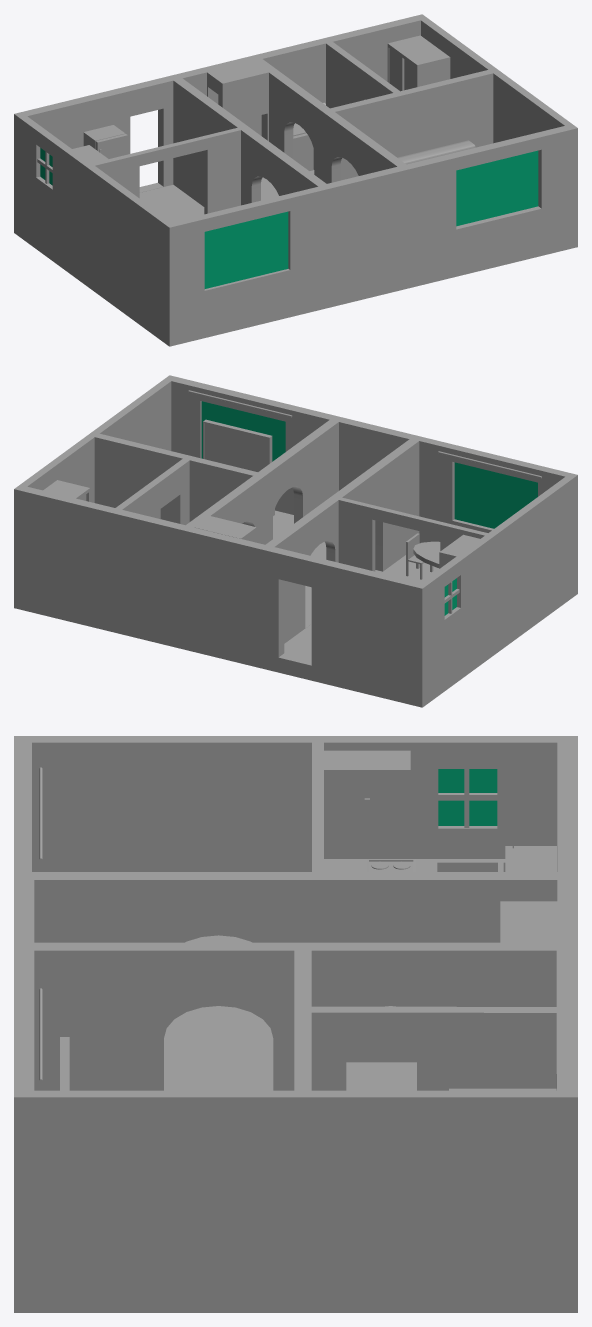
File: House_Layout_06.fbx
3 renders of one model, top to bottom at view 1: azimuth 30°, elevation 25°; view 2: azimuth 150°, elevation 25°; view 3: azimuth 270°, elevation 25°, orthographic. The views are drawn at different scales.
Parts seen in each view (by area): view 1: loftedSurface6, pCube25, pCube24, pCube22, pCube6, pCube14, pCylinder13, pCube26; view 2: loftedSurface6, pCube25, pCube29, pCube24, pCube35, pCube22, pCube6, pCube12; view 3: loftedSurface6, pCube12, pCylinder23, pCube22, pCube14.
Boxes of the visible parts, x1,y1,x2,y2 form: loftedSurface6: (14,14,577,346); pCube25: (204,211,288,288); pCube24: (456,150,538,226); pCube22: (207,60,269,141); pCube6: (387,35,450,91); pCube14: (83,125,127,158); pCylinder13: (293,123,313,170); pCube26: (397,140,475,164); loftedSurface6: (14,375,577,707); pCube25: (454,462,537,528); pCube29: (203,419,272,471); pCube24: (201,401,285,461); pCube35: (406,533,440,579); pCube22: (194,516,256,542); pCube6: (43,480,89,501); pCube12: (439,534,479,568); loftedSurface6: (14,736,577,1312); pCube12: (324,750,410,834); pCylinder23: (324,859,505,942); pCube22: (500,901,557,942); pCube14: (503,846,556,871).
Size of the model in its own units: 28.92 by 8.06 by 19.09.
